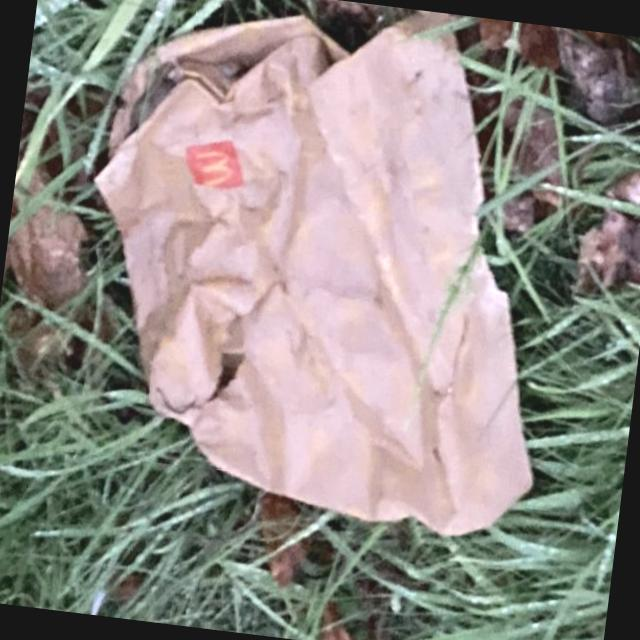Paper: (55, 0, 592, 548)
